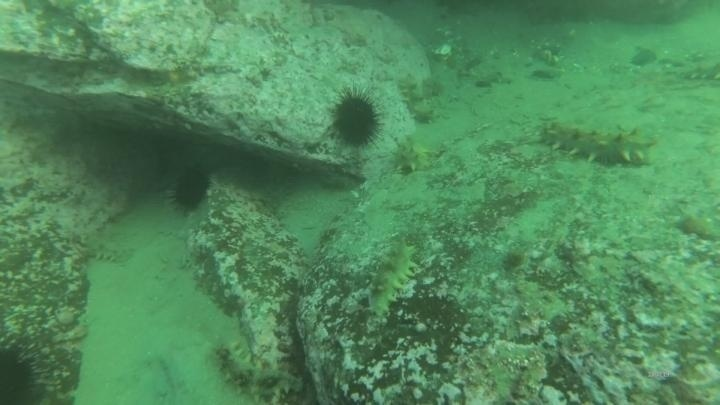echinus: (328, 87, 384, 150), (1, 337, 47, 405), (167, 164, 214, 214)
holothurian: (537, 115, 658, 170), (211, 339, 304, 403), (364, 235, 421, 324), (395, 70, 438, 126), (388, 133, 442, 177), (76, 233, 136, 267), (658, 54, 720, 86)
starfish: (671, 209, 719, 243)
